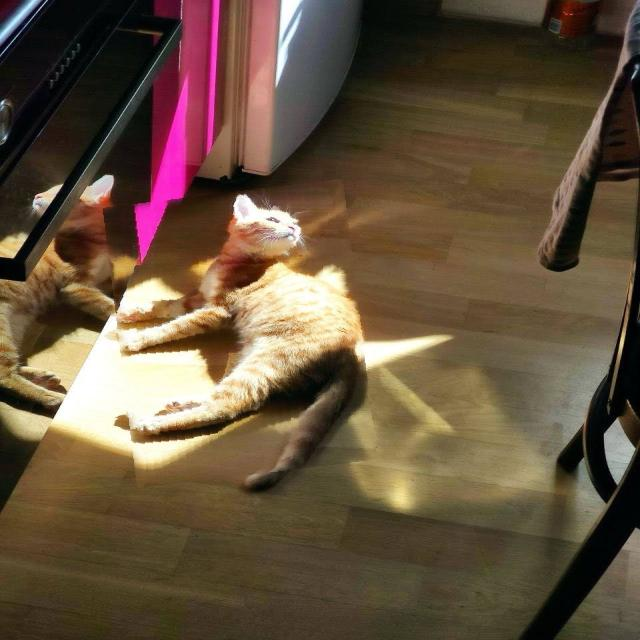red_cat: (111, 185, 369, 482)
